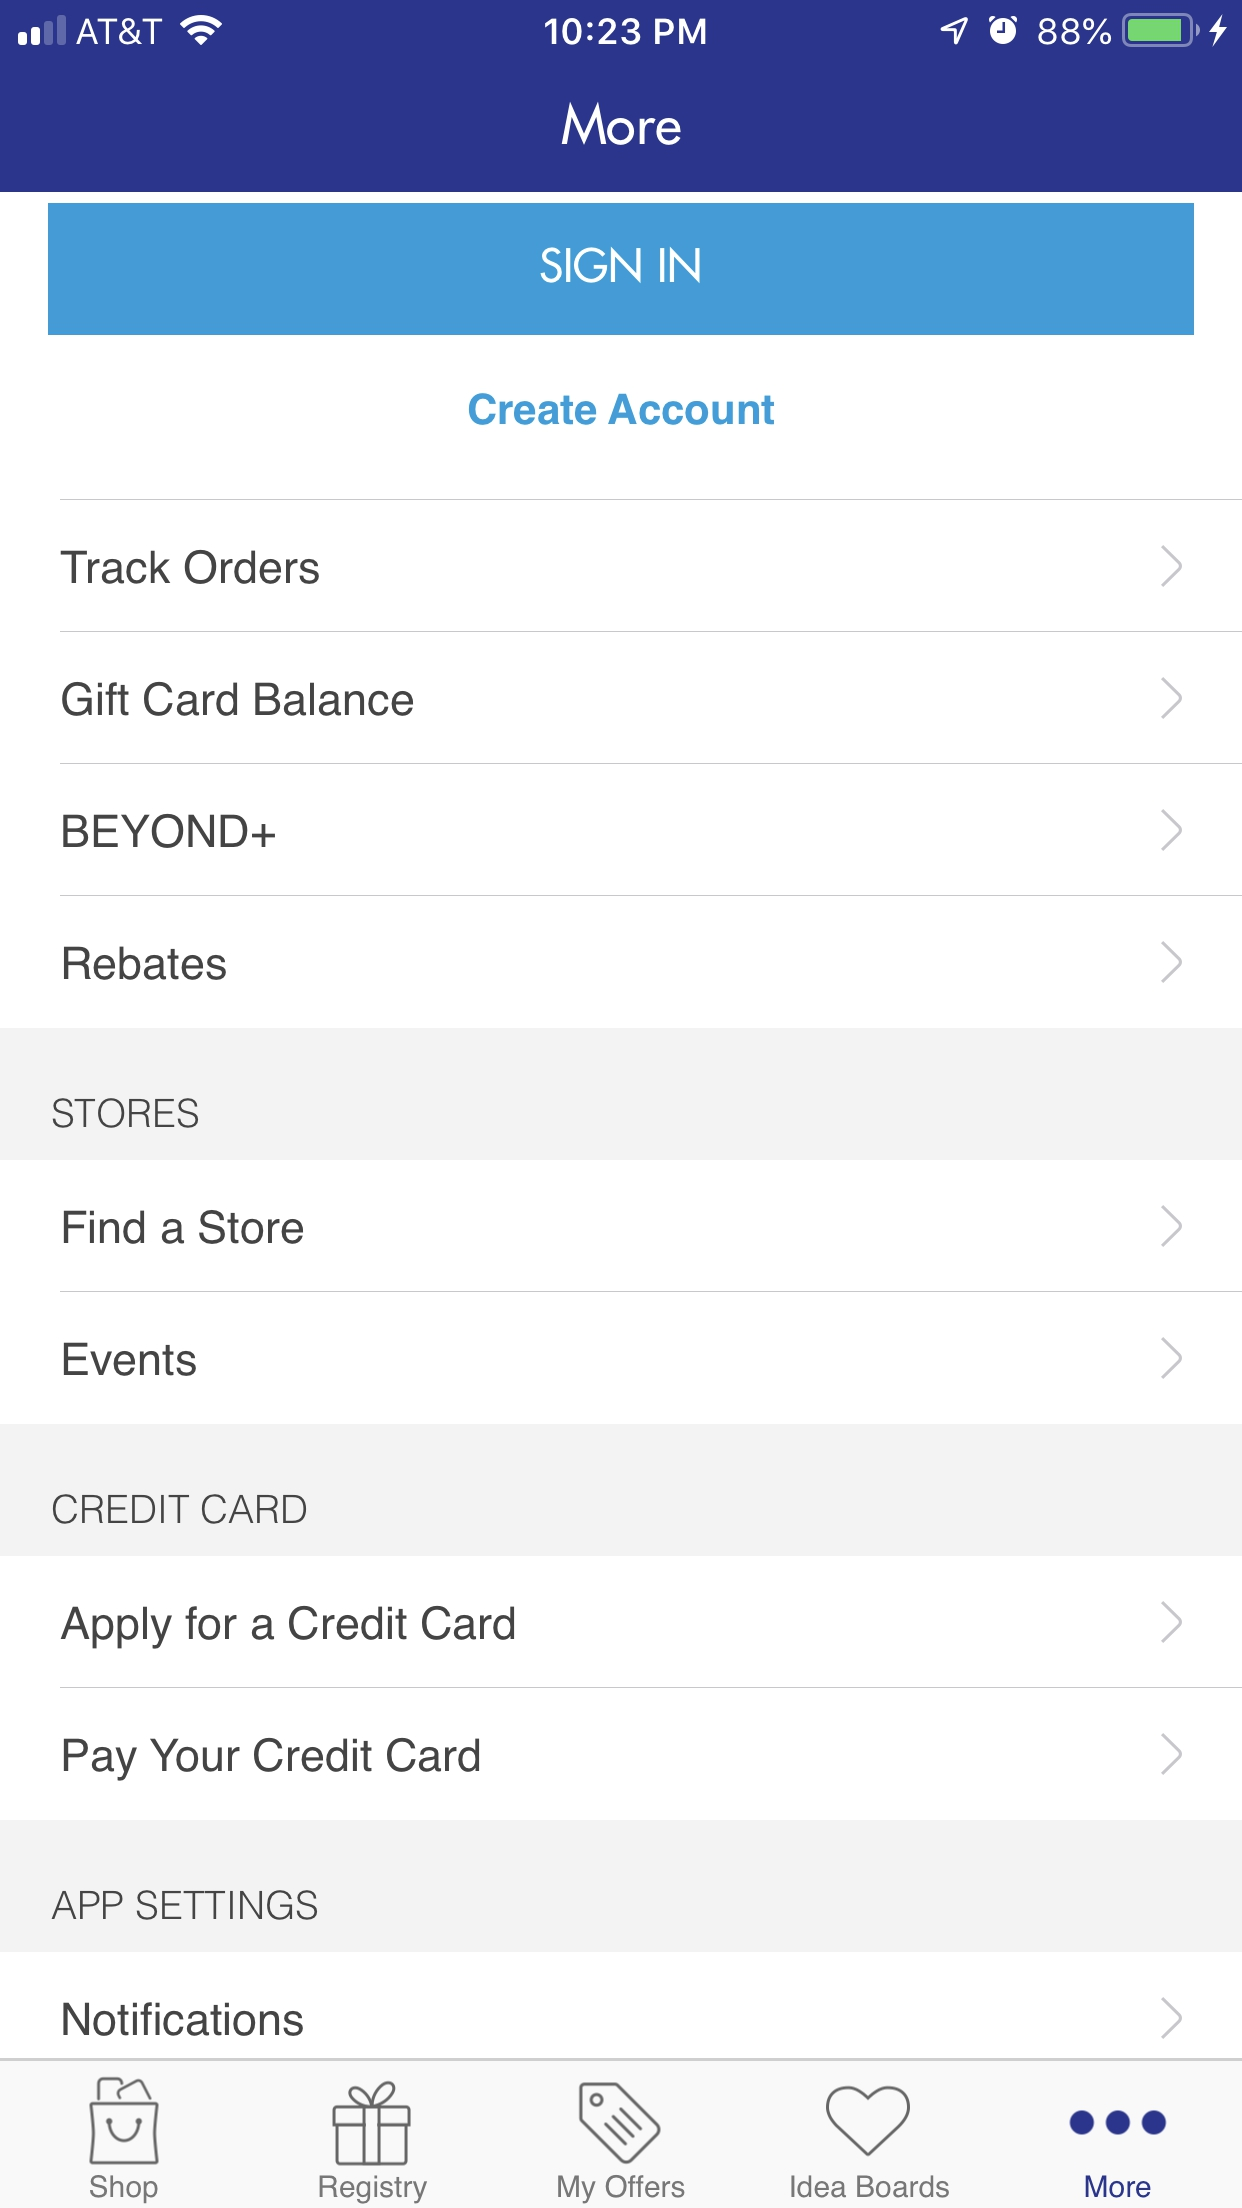Icon: (578, 2082, 663, 2166), (332, 2081, 412, 2167), (89, 2076, 161, 2166), (826, 2085, 911, 2156), (1068, 2109, 1168, 2137), (1162, 808, 1183, 852), (1162, 676, 1183, 720), (1162, 544, 1183, 588), (1162, 1997, 1183, 2040), (1162, 1733, 1183, 1776), (1162, 1601, 1183, 1644), (1160, 1338, 1181, 1380), (1160, 1206, 1181, 1248), (1160, 942, 1181, 984)
Text: (61, 1604, 516, 1650), (64, 1736, 481, 1782), (64, 682, 416, 717), (469, 393, 775, 428), (61, 549, 321, 585), (64, 1209, 305, 1245), (52, 1890, 318, 1921), (64, 2002, 303, 2037), (53, 1494, 308, 1526), (64, 814, 276, 849), (64, 945, 227, 981), (561, 103, 681, 146), (64, 1342, 199, 1377), (53, 1096, 200, 1128), (558, 2175, 685, 2205), (790, 2175, 949, 2199), (318, 2175, 428, 2205), (89, 2175, 159, 2203), (1084, 2175, 1153, 2199)
TextButton: (49, 203, 1193, 337)
UpperTaskBar: (2, 2, 1242, 52)
